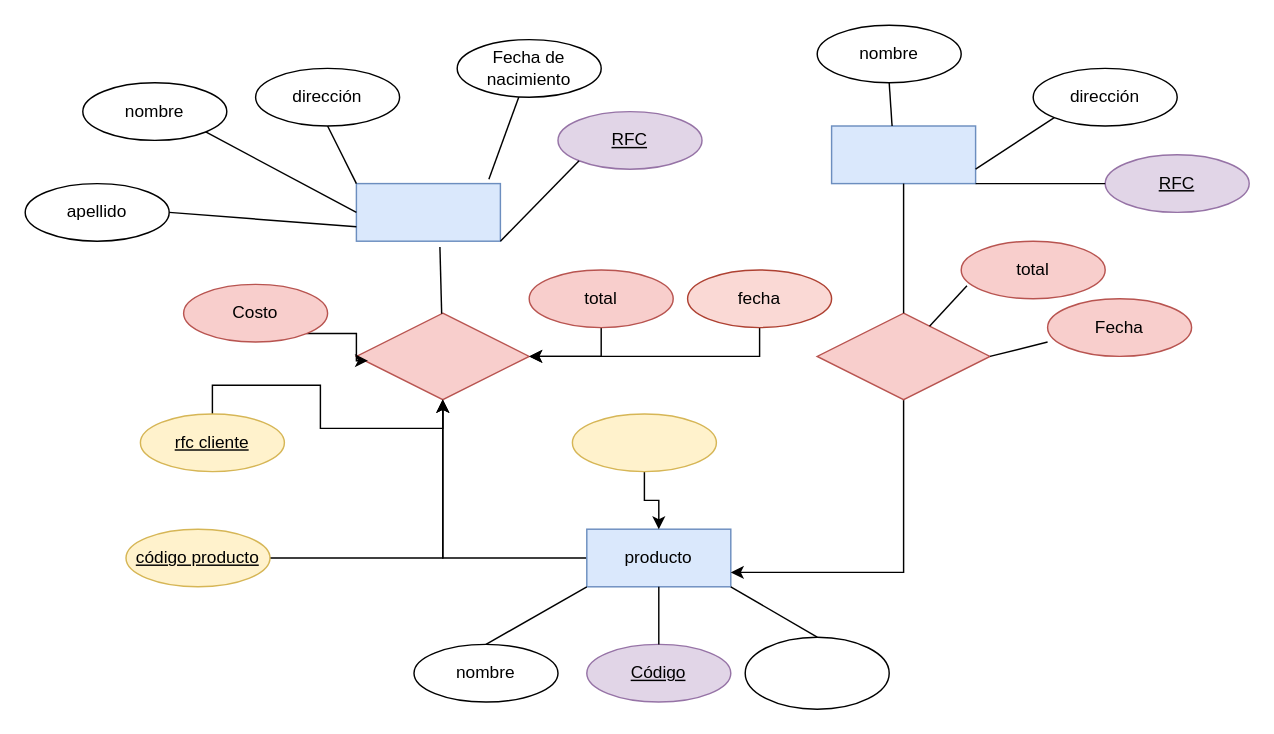
Some shapes in this 1274 by 734 pixel diagram are drawn without their labels. Each missing label, with the centre of its shape:
cliente: [427,211]
Compra: [442,356]
precio: [816,672]
provedor: [903,154]
rfc provedor: [643,442]
suministro: [903,356]
